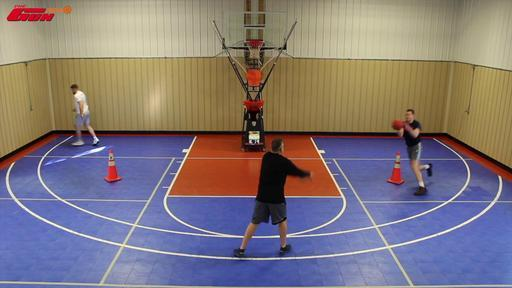ball: (391, 120, 404, 130)
human: (233, 138, 313, 257), (398, 109, 432, 196), (71, 84, 100, 146)
rim: (243, 41, 264, 58)
